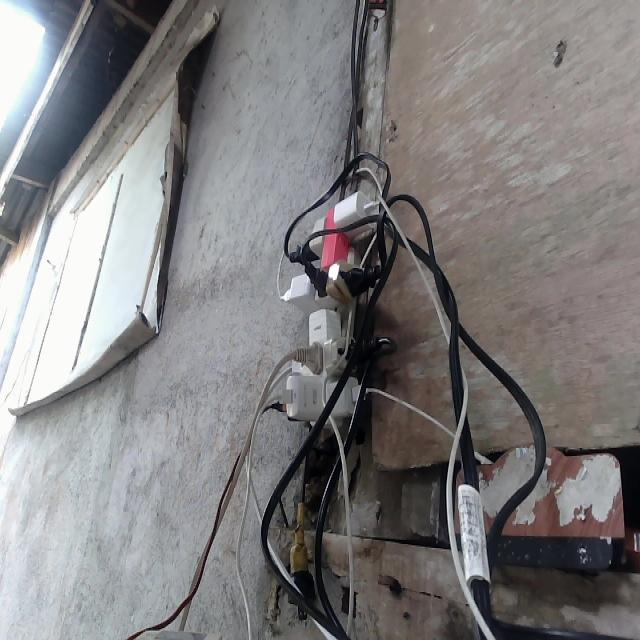-: (269, 189, 392, 420)
